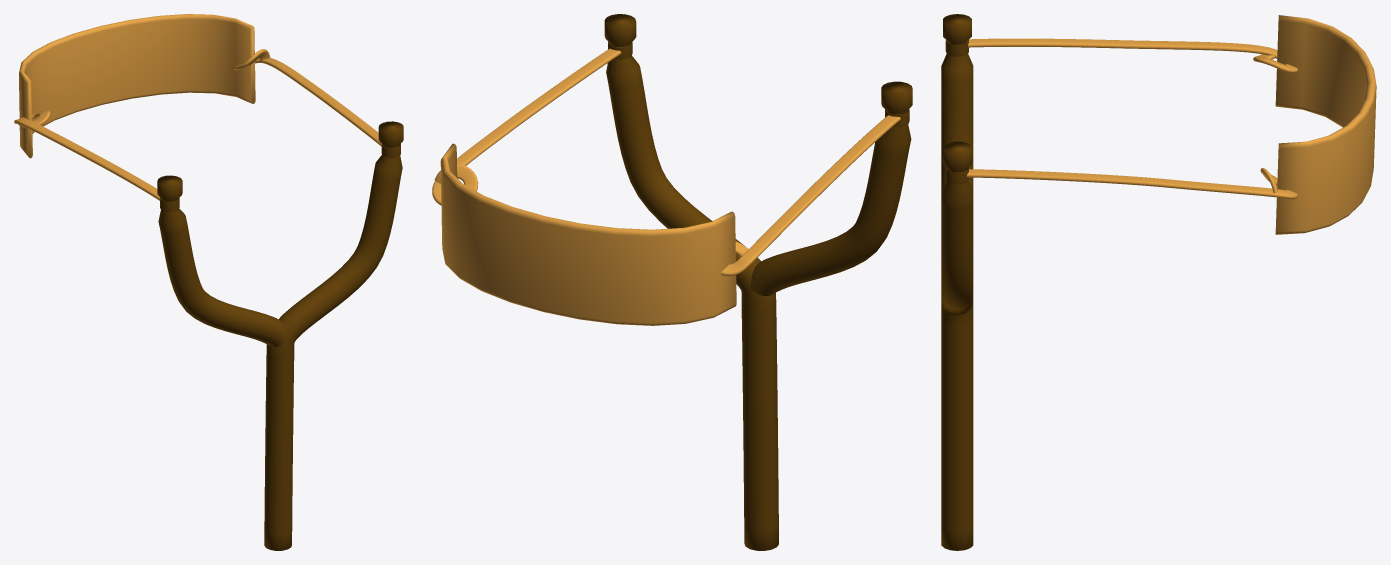
Rendered from slingshoot.fbx.
3 views of the same model, side by side, from view 1: azimuth 30°, elevation 25°; view 2: azimuth 150°, elevation 25°; view 3: azimuth 270°, elevation 25° (orthographic). The views are drawn at different scales.
Visible parts, largest first — view 1: rubber, body; view 2: rubber, body; view 3: rubber, body.
Part boxes in pixels (x1,y1,x2,y2): rubber: (14,14,381,200); body: (157,121,403,550); rubber: (432,48,900,325); body: (604,14,912,550); rubber: (966,15,1376,234); body: (941,14,973,550).
Size of the model in its own units: 153 by 224 by 190.
